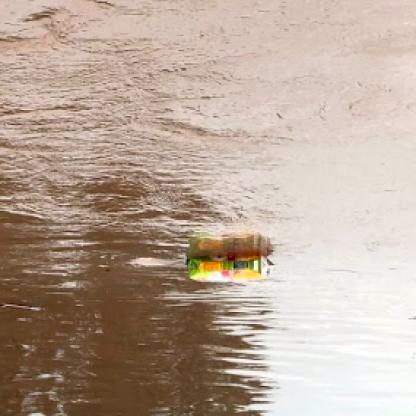Trash: (184, 253, 276, 285)
